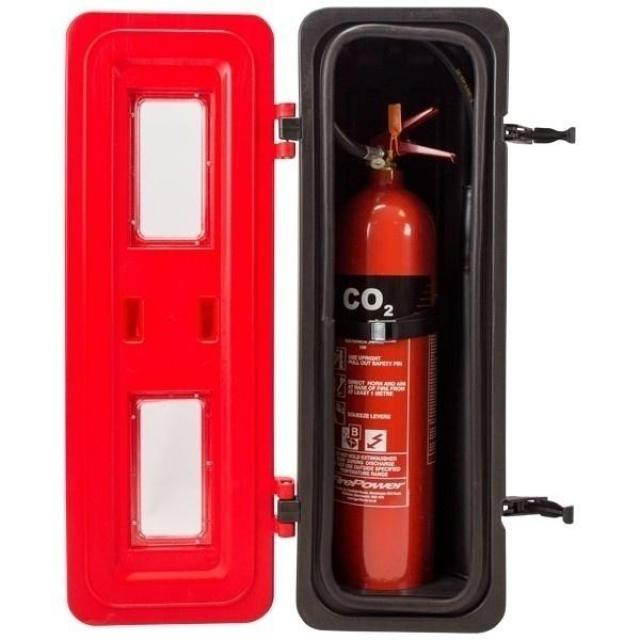fire_extinguisher: (305, 25, 494, 598)
